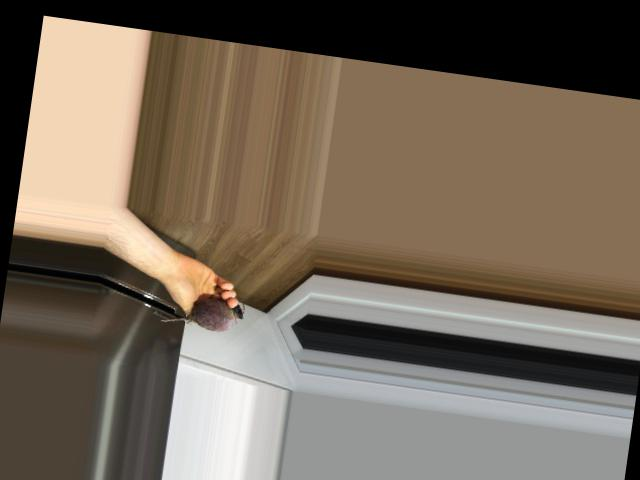beet: (161, 291, 246, 334)
